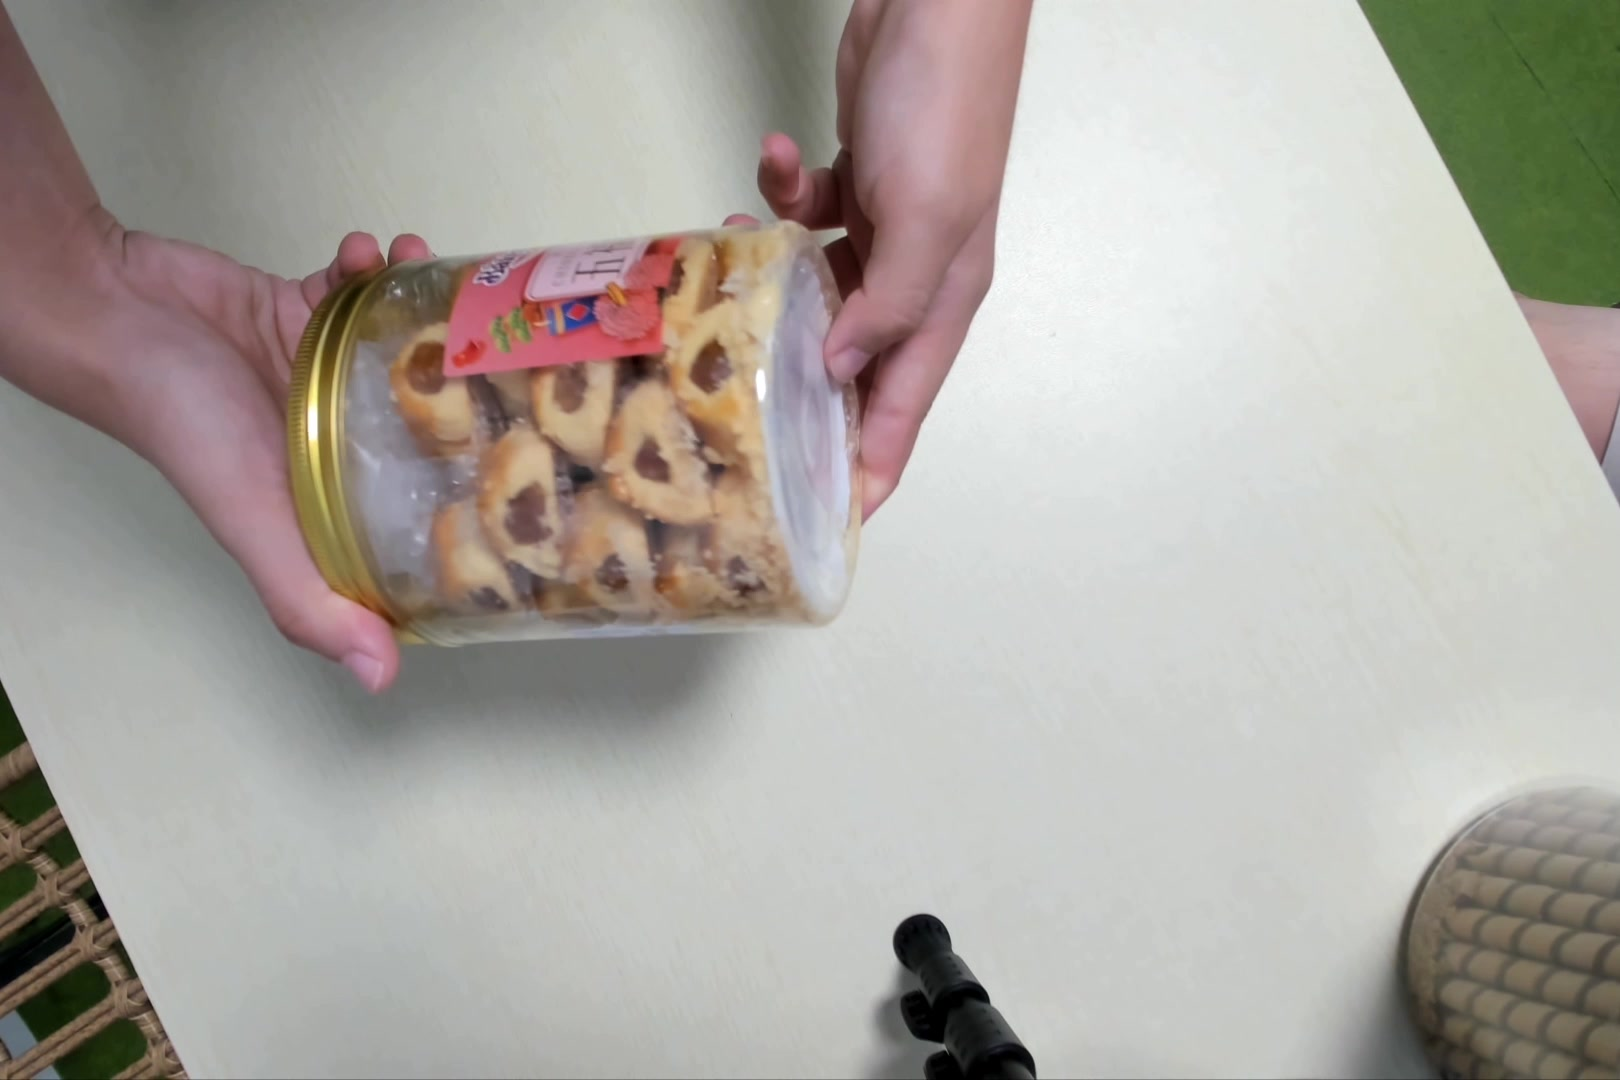BiscuitsCrackersCookies_300-399g_NonHalal_NonHealthy: (288, 228, 859, 655)
